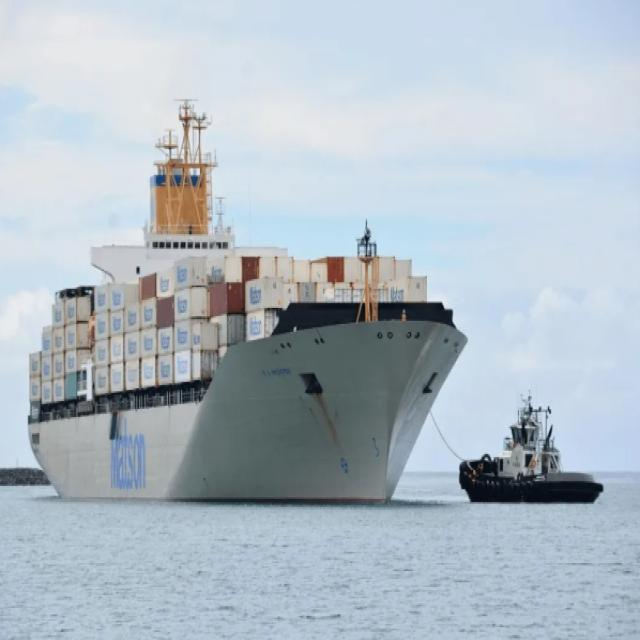cargoship: (23, 92, 466, 530), (455, 374, 615, 516)
